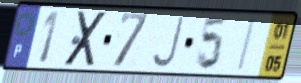1: (36, 9, 62, 67)
5: (193, 16, 230, 72)
7: (112, 11, 152, 71)
I: (234, 16, 259, 74)
J: (149, 15, 187, 70)
X: (61, 9, 111, 68)
